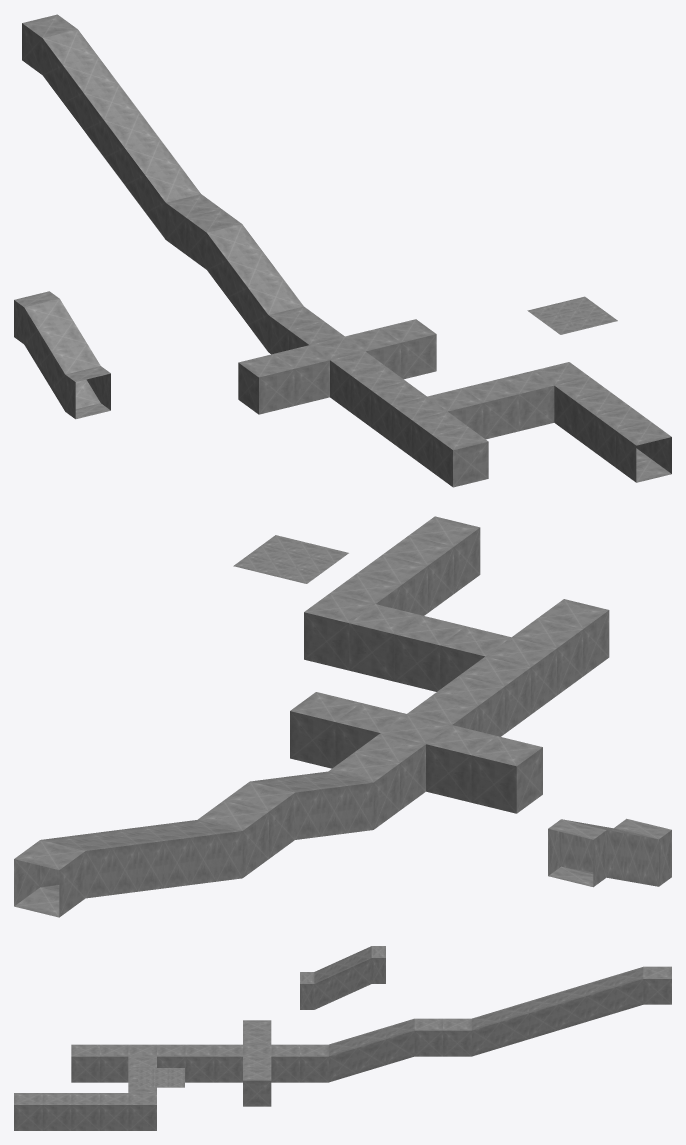
File: Vents.fbx
3 renders of one model, top to bottom at view 1: azimuth 30°, elevation 25°; view 2: azimuth 150°, elevation 25°; view 3: azimuth 270°, elevation 25°, orthographic. The views are drawn at different scales.
Visible parts, largest first — view 1: vents stairs 16, vents stairs 10, Cube.002, vents cross, vents tsection, vents 90 deg, vents end.001, vents end.002, vents simple, vents end, Cube.000, Plane.003 (+3 smaller); view 2: vents stairs 16, vents cross, vents stairs 10, vents tsection, vents 90 deg, Cube.002, vents end.001, Cube.000, vents end, Plane.003, vents simple, vents end.002 (+3 smaller); view 3: vents stairs 16, vents stairs 10, vents cross, Cube.002, vents tsection, vents 90 deg, Cube.001, Cube.005, vents end.002, vents end, vents simple, Cube.006 (+2 smaller).
Part boxes in pixels (x1,y1,x2,y2): vents stairs 16: (22,14,221,254); vents stairs 10: (186,209,323,354); Cube.002: (14,291,110,419); vents cross: (274,321,400,411); vents tsection: (371,381,483,472); vents 90 deg: (498,362,609,437); vents end.001: (238,354,294,414); vents end.002: (432,426,488,487); vents simple: (616,422,671,482); vents end: (381,319,436,379); Cube.000: (463,379,518,439); Plane.003: (527,296,617,334); vents stairs 16: (14,800,268,917); vents cross: (335,695,496,810); vents stairs 10: (224,752,399,858); vents tsection: (440,618,582,733); vents 90 deg: (304,574,420,681); Cube.002: (548,818,671,887); vents end.001: (471,736,542,813); Cube.000: (394,615,465,691); vents end: (290,692,360,768); Plane.003: (233,535,348,583); vents simple: (409,516,480,593); vents end.002: (538,599,609,676); vents stairs 16: (443,966,671,1056); vents stairs 10: (300,1018,442,1082); vents cross: (214,1032,299,1082); Cube.002: (300,946,385,1009); vents tsection: (99,1044,185,1082); vents 90 deg: (99,1080,156,1130); Cube.001: (185,1044,214,1082); Cube.005: (42,1093,71,1130); vents end.002: (71,1044,99,1082); vents end: (243,1068,271,1106); vents simple: (14,1093,42,1130); Cube.006: (71,1093,99,1130).
Bounding box in the file's own units: 2400 × 800 × 4600.
